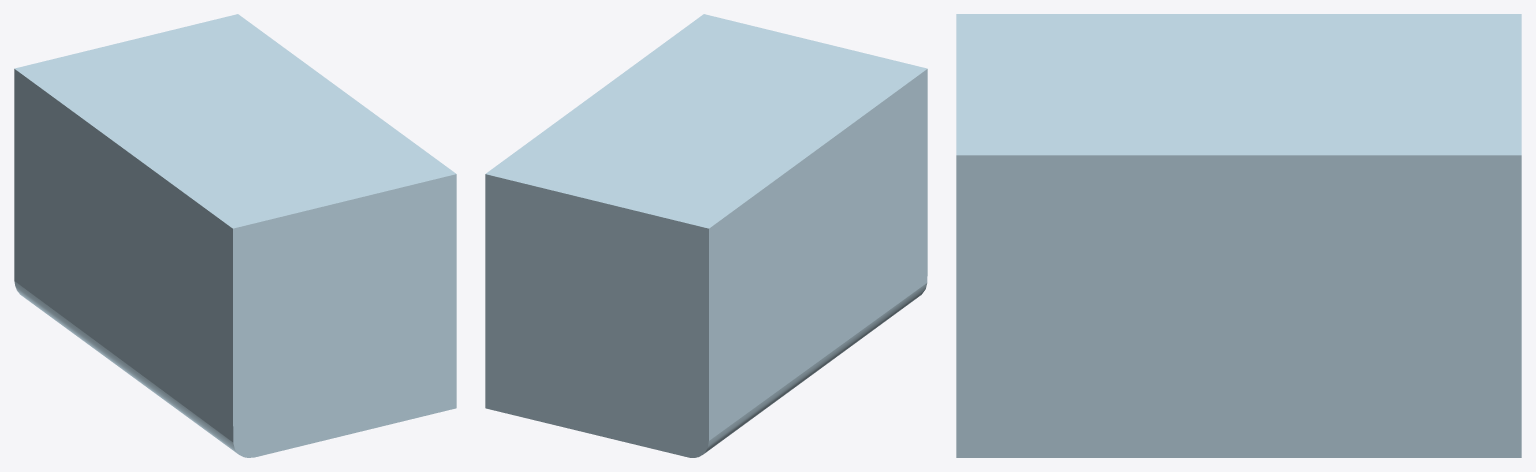
Rendered from ModernCorner.fbx.
3 renders of one model, left to right at view 1: azimuth 30°, elevation 25°; view 2: azimuth 150°, elevation 25°; view 3: azimuth 270°, elevation 25°, orthographic. The views are drawn at different scales.
Parts seen in each view (by area): view 1: Part 1; view 2: Part 1; view 3: Part 1.
Part boxes in pixels (bbox=[...]): Part 1: bbox=[14, 14, 456, 457]; Part 1: bbox=[485, 14, 927, 457]; Part 1: bbox=[956, 14, 1521, 457].
Size of the model in its own units: 8.26 by 8.26 by 13.97.
